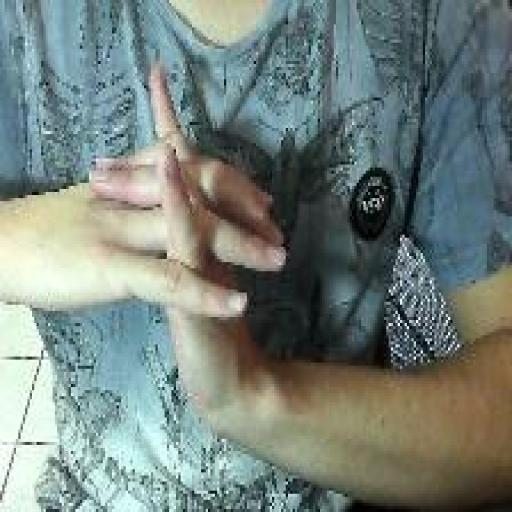Ushi -ox-: (86, 61, 291, 448)
